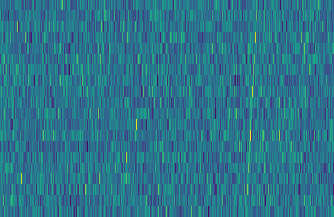signal: (242, 0, 263, 217)
